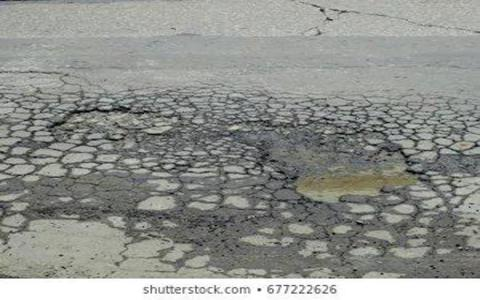patchy roads: (217, 90, 451, 246), (20, 122, 207, 253)
